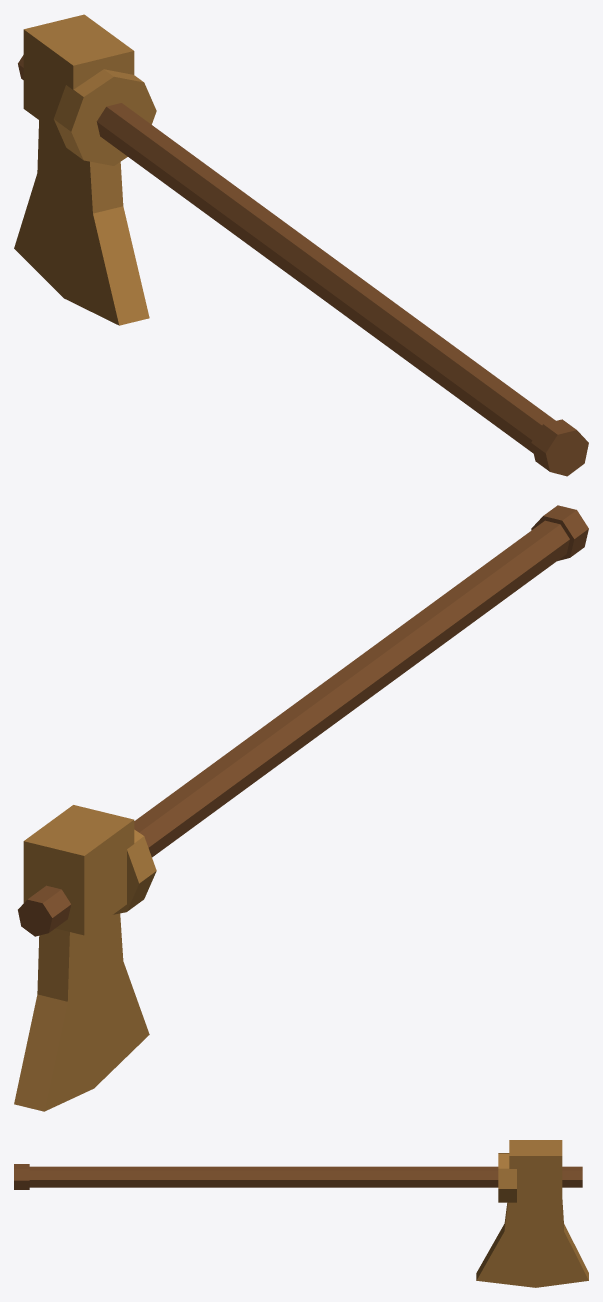
Rendered from Tool_Axe_Bronze.fbx.
3 views of the same model, one above another, from view 1: azimuth 30°, elevation 25°; view 2: azimuth 150°, elevation 25°; view 3: azimuth 270°, elevation 25° (orthographic). The views are drawn at different scales.
Parts seen in each view (by area): view 1: Tool_Axe_Bronze; view 2: Tool_Axe_Bronze; view 3: Tool_Axe_Bronze.
Part boxes in pixels (x1=…): Tool_Axe_Bronze: x1=14, y1=14, x2=588, y2=476; Tool_Axe_Bronze: x1=14, y1=505, x2=588, y2=1111; Tool_Axe_Bronze: x1=14, y1=1140, x2=588, y2=1287.
Size of the model in its own units: 3.38 by 9.6 by 36.8.
